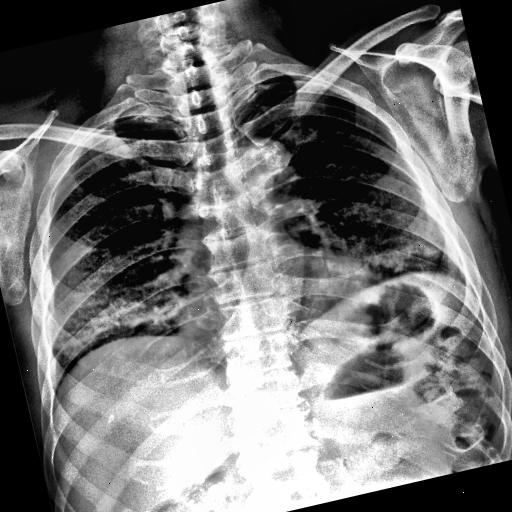0- Aortic enlargement: (224, 129, 304, 207), (232, 132, 302, 204), (231, 131, 297, 182)
11- Pleural thickening: (65, 128, 105, 164)
13- Pulmonary fibrosis: (55, 302, 171, 350), (358, 230, 440, 280)
7- Lung Opacity: (54, 282, 173, 356), (354, 233, 442, 278)
